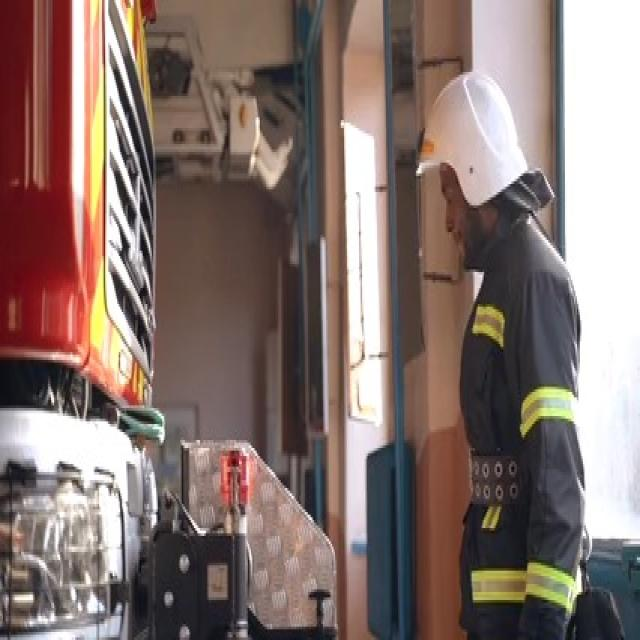Helmet_Wearer: (418, 68, 534, 230)
Jacket_Wearer: (453, 232, 588, 640)
Person: (418, 62, 592, 630)
